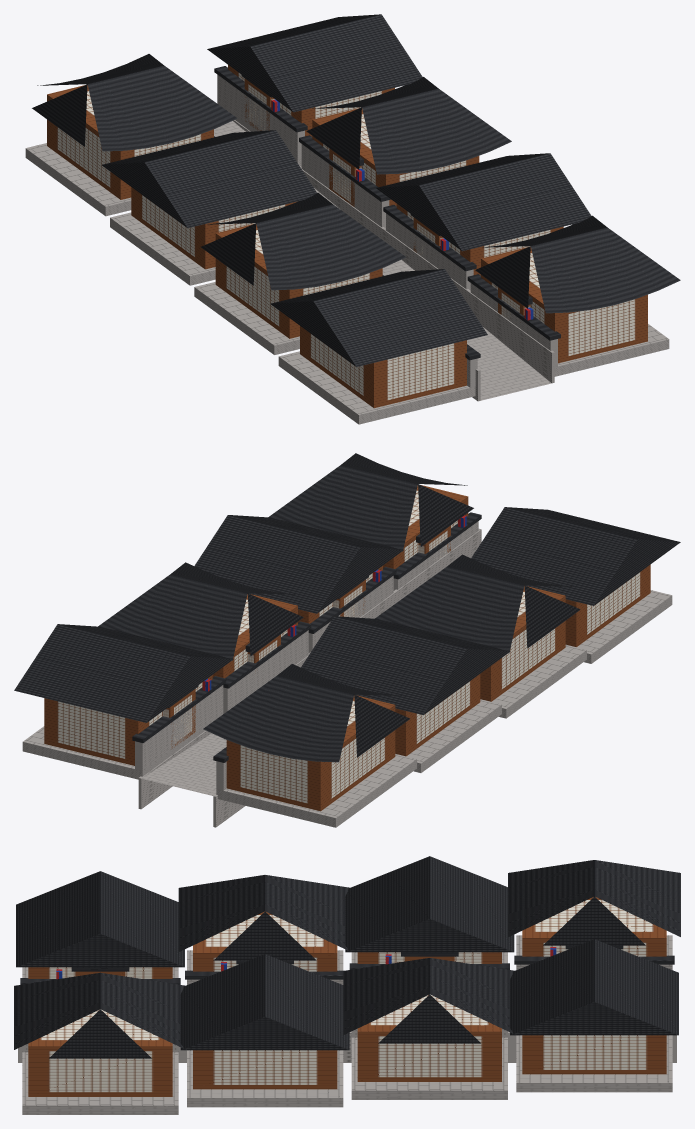
3 renders of one model, top to bottom at view 1: azimuth 30°, elevation 25°; view 2: azimuth 150°, elevation 25°; view 3: azimuth 270°, elevation 25°, orthographic. The views are drawn at different scales.
Visible parts, largest first — view 1: node_mesh_west_facades, node_mesh_east_facades, node_mesh_alley_road; view 2: node_mesh_west_facades, node_mesh_east_facades, node_mesh_alley_road; view 3: node_mesh_east_facades, node_mesh_west_facades, node_mesh_alley_road.
Part boxes in pixels (x1,y1,x2,y2): node_mesh_west_facades: [25, 54, 487, 424]; node_mesh_east_facades: [207, 14, 680, 376]; node_mesh_alley_road: [214, 120, 554, 401]; node_mesh_west_facades: [203, 507, 680, 827]; node_mesh_east_facades: [14, 453, 481, 779]; node_mesh_alley_road: [138, 528, 481, 827]; node_mesh_east_facades: [14, 939, 678, 1114]; node_mesh_west_facades: [16, 856, 680, 984]; node_mesh_alley_road: [18, 1031, 676, 1062].
Bounding box in the file's own units: 17.8 × 6.5 × 32.4.
4 materials, 4 textured.
